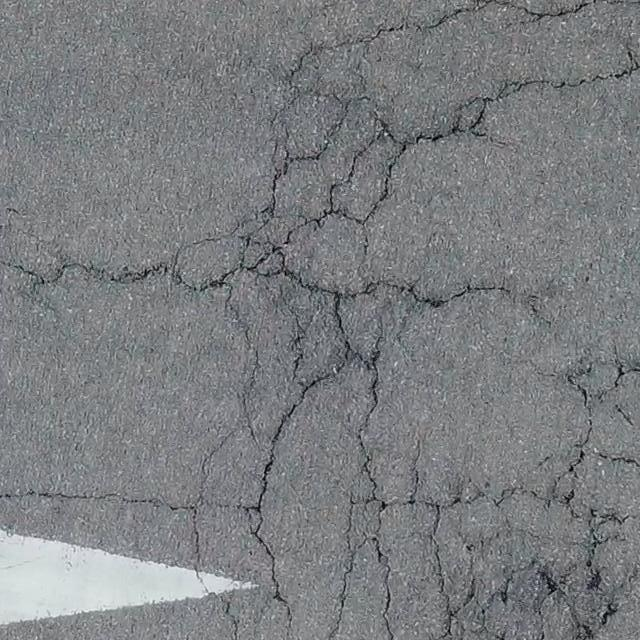GRIETA: (0, 260, 163, 287), (0, 490, 191, 510)
PIEL DE COCODRILO: (157, 0, 639, 639)
